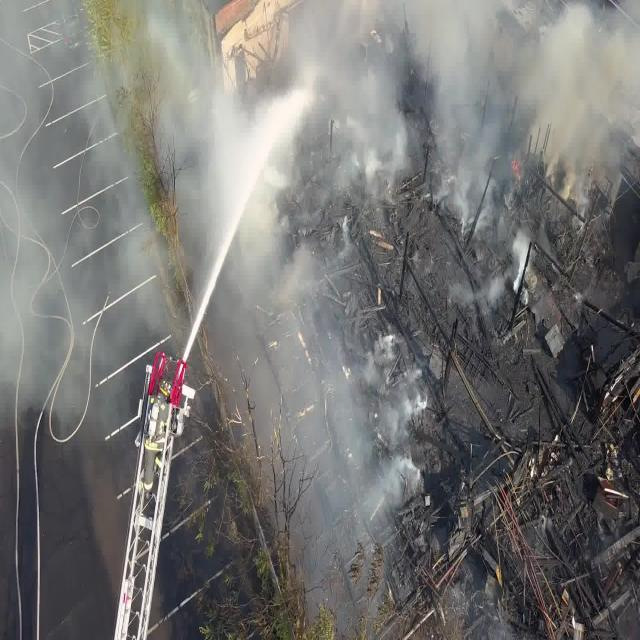Fire: (512, 146, 522, 188)
Smoke: (216, 252, 400, 576), (320, 17, 512, 168)
